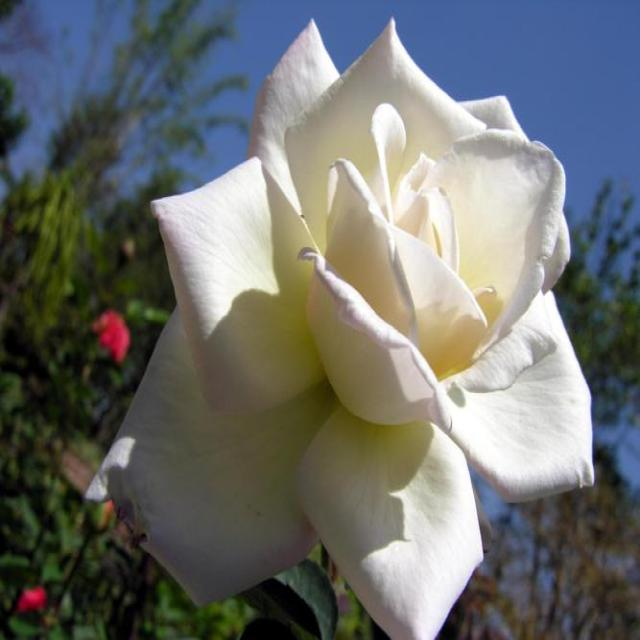rose: (105, 15, 616, 625)
